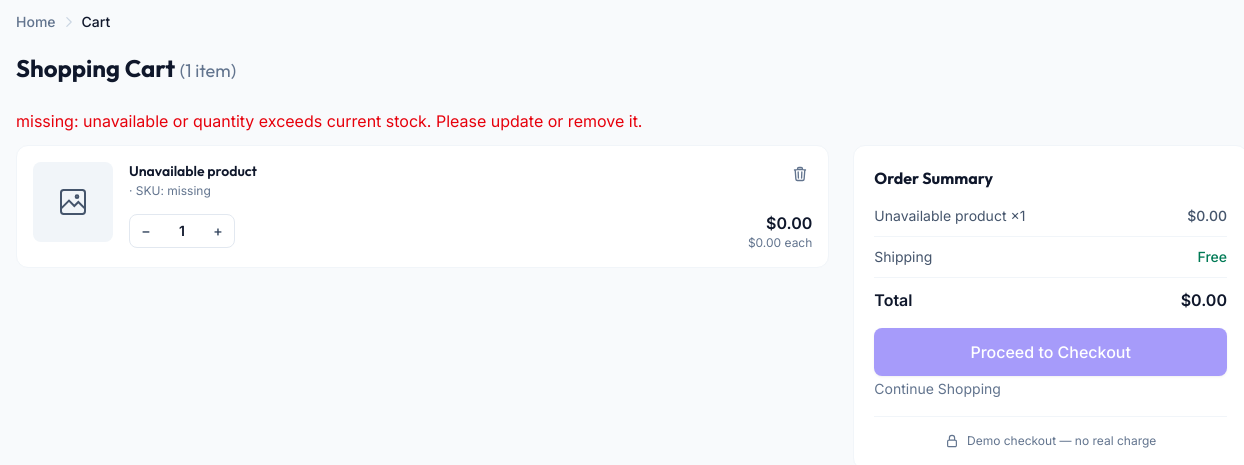
focused cart state › keeps a missing catalog entry removable and prevents checkout
This screenshot has width=1244, height=465.
Expected: the heading "Unavailable product" is shown, [129,162,257,181]
Expected: the text "missing: unavailable" is shown, [16,111,642,131]
Click the button named "Remove Unavailable product". click: (800, 174)
box: [788,162,812,186]
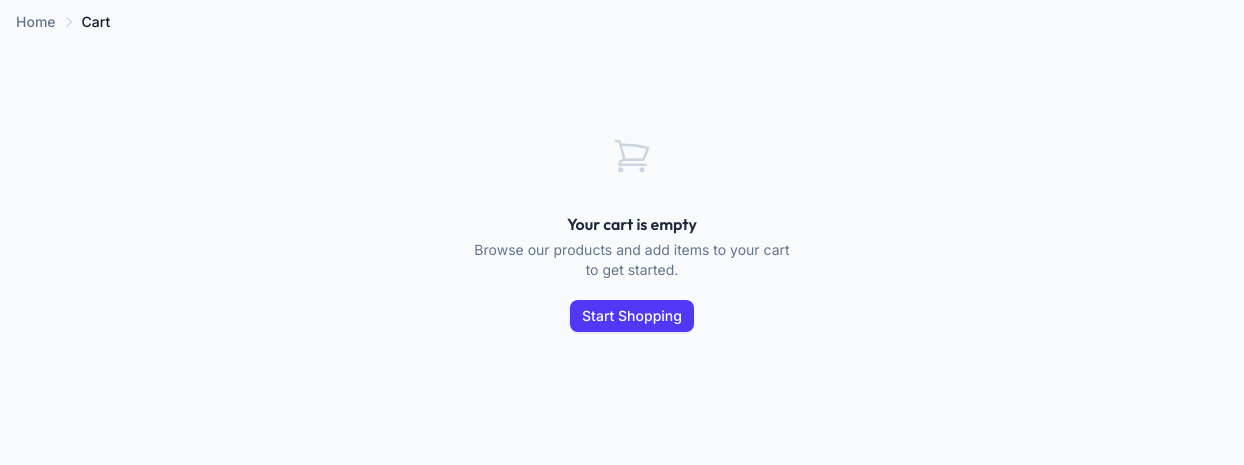
Now the heading "Your cart is empty" is shown, box [567,212,697,236]
